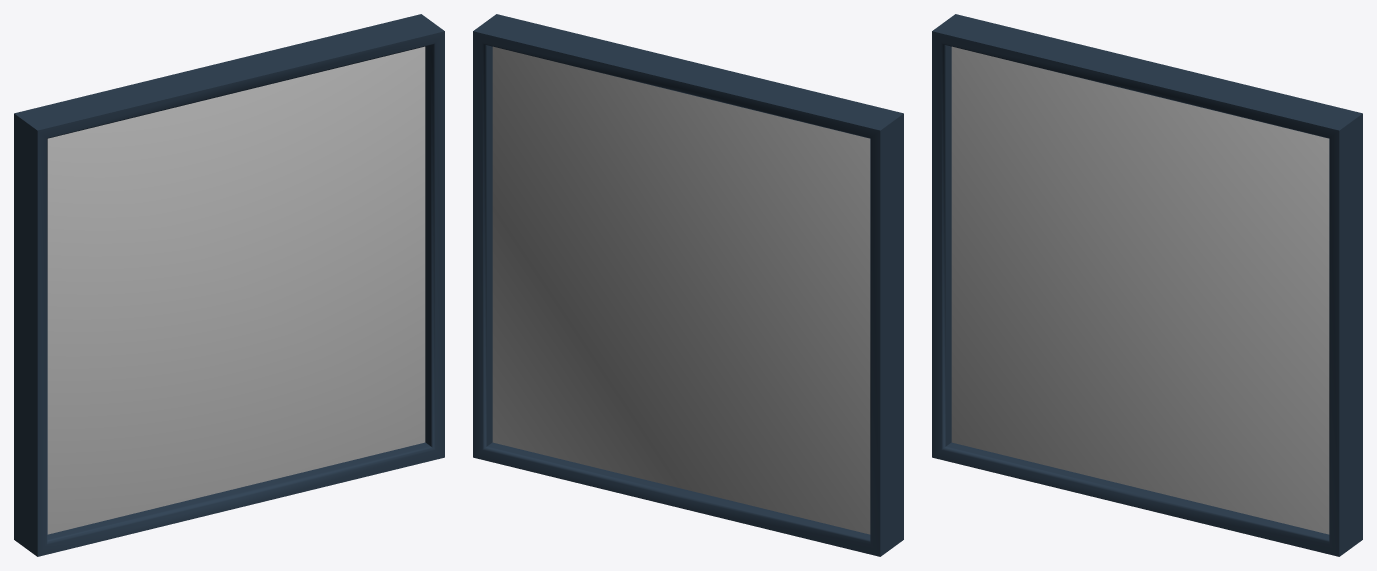
File: Glass-Wall-1.fbx
3 renders of one model, left to right at view 1: azimuth 30°, elevation 25°; view 2: azimuth 150°, elevation 25°; view 3: azimuth 330°, elevation 25°, orthographic.
Visible parts, largest first — view 1: Glass-Wall-1; view 2: Glass-Wall-1; view 3: Glass-Wall-1.
Part boxes in pixels (x1,y1,x2,y2): Glass-Wall-1: (14,14,444,556); Glass-Wall-1: (473,14,903,556); Glass-Wall-1: (932,14,1362,556).
Bounding box in the file's own units: 2 × 2 × 0.2.
